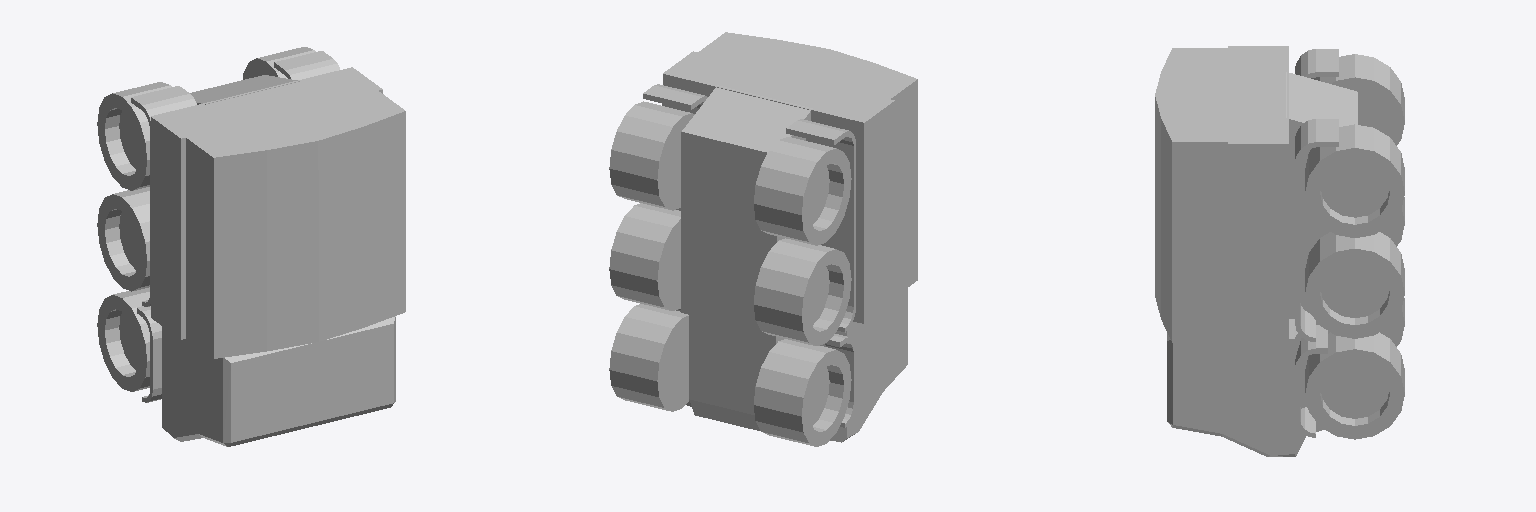
Rendered from truck01export.obj.
The picture shows the model from 3 angles: view 1: azimuth 30°, elevation 25°; view 2: azimuth 150°, elevation 25°; view 3: azimuth 270°, elevation 25°; orthographic projection.
Size of the model in its own units: 0.6179 by 0.9429 by 0.6627.